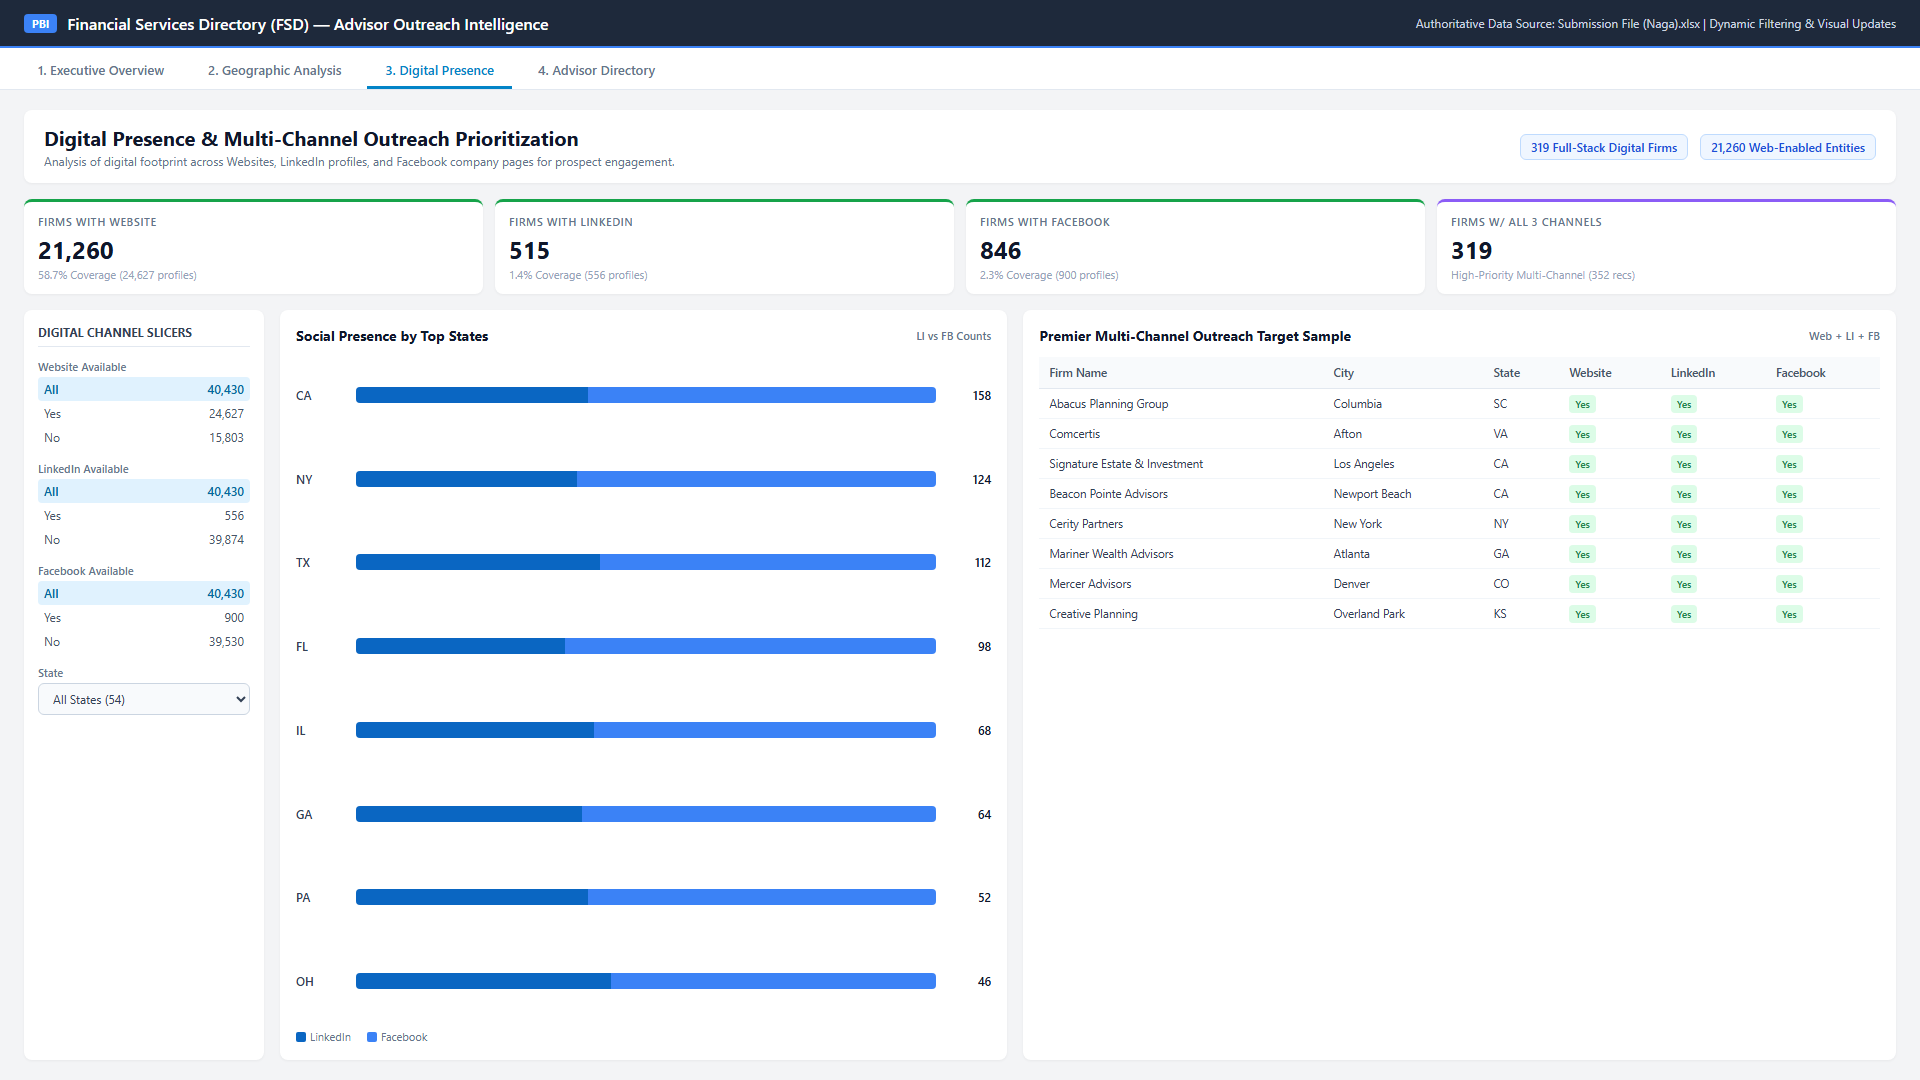

The dashboard page shown, as its layout file describes it:
{"tool":"powerbi","page":{"name":"Digital Presence","canvas":[1280,720],"ordinal":2},"visuals":[{"type":"slicer","fields":{"Values":["FSD Directory.Website Available"]},"box":[20,20,180,150],"z":1000},{"type":"card","fields":{"Values":["_Measures.Firms with Website"]},"box":[220,20,240,90],"z":1000},{"type":"card","fields":{"Values":["_Measures.Firms with LinkedIn"]},"box":[480,20,240,90],"z":1000},{"type":"card","fields":{"Values":["_Measures.Firms with Facebook"]},"box":[740,20,240,90],"z":1000},{"type":"card","fields":{"Values":["_Measures.Firms with All Channels"]},"box":[1000,20,250,90],"z":1000},{"type":"card","fields":{"Values":["_Measures.Website Coverage %"]},"box":[220,120,240,80],"z":1000},{"type":"card","fields":{"Values":["_Measures.LinkedIn Coverage %"]},"box":[480,120,240,80],"z":1000},{"type":"card","fields":{"Values":["_Measures.Facebook Coverage %"]},"box":[740,120,240,80],"z":1000},{"type":"card","fields":{"Values":["_Measures.Phone Coverage %"]},"box":[1000,120,250,80],"z":1000},{"type":"slicer","fields":{"Values":["FSD Directory.LinkedIn Available"]},"box":[20,180,180,150],"z":1000},{"type":"clusteredBarChart","fields":{"Category":["FSD Directory.state"],"Y":["_Measures.Firms with Website"]},"box":[220,220,510,470],"z":1000},{"type":"tableEx","fields":{"Values":["FSD Directory.firm","FSD Directory.website","FSD Directory.linkedin","FSD Directory.facebook","FSD Directory.city","FSD Directory.state"]},"box":[750,220,500,470],"z":1000},{"type":"slicer","fields":{"Values":["FSD Directory.Facebook Available"]},"box":[20,340,180,150],"z":1000},{"type":"slicer","fields":{"Values":["FSD Directory.state"]},"box":[20,500,180,190],"z":1000}]}

Visuals, with their boxes on the page's 1280x720 design canvas (x1, y1, x2, y2). These are canvas units, not pixel positions in the 1920x1080 screenshot, which may show the page scaled, cropped or inside an application window:
slicer - FSD Directory.Website Available: [20,20,200,170]
card - _Measures.Firms with Website: [220,20,460,110]
card - _Measures.Firms with LinkedIn: [480,20,720,110]
card - _Measures.Firms with Facebook: [740,20,980,110]
card - _Measures.Firms with All Channels: [1000,20,1250,110]
card - _Measures.Website Coverage %: [220,120,460,200]
card - _Measures.LinkedIn Coverage %: [480,120,720,200]
card - _Measures.Facebook Coverage %: [740,120,980,200]
card - _Measures.Phone Coverage %: [1000,120,1250,200]
slicer - FSD Directory.LinkedIn Available: [20,180,200,330]
clusteredBarChart - FSD Directory.state x _Measures.Firms with Website: [220,220,730,690]
tableEx - FSD Directory.firm x FSD Directory.website: [750,220,1250,690]
slicer - FSD Directory.Facebook Available: [20,340,200,490]
slicer - FSD Directory.state: [20,500,200,690]
